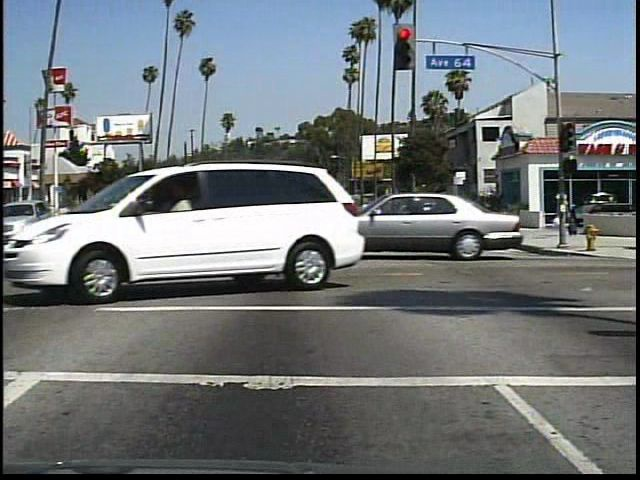person: (550, 188, 578, 237)
